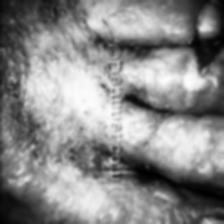Non-Cancerous Skin Condition: (0, 68, 101, 180)
